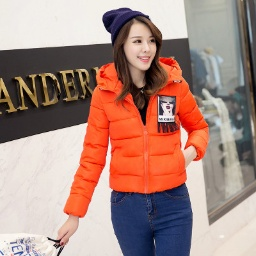face: (109, 17, 164, 78)
